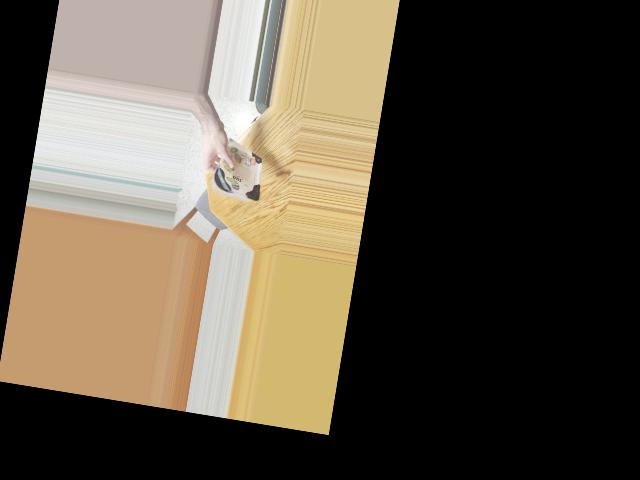cheese: (207, 147, 263, 206)
